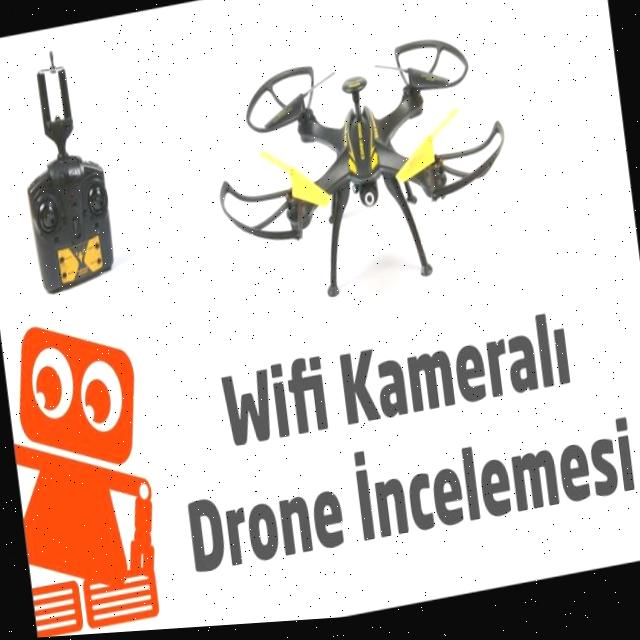drone: (189, 8, 538, 329)
